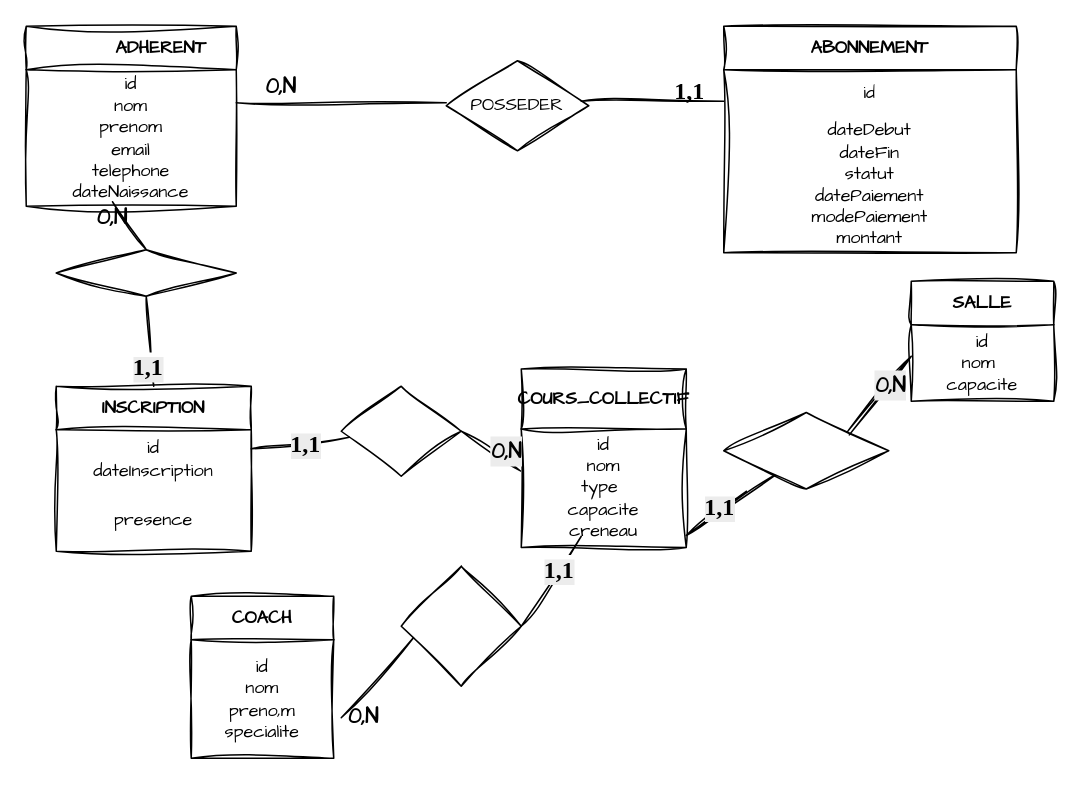
This 1080x785 diagram has some shape labels left out. The centre of each missing label's shape, as x and y in pixels:
"ACCUEILLIIR" belongs at (805,450).
"ANIMER" belongs at (460,625).
"CONCERNER" belongs at (400,430).
"EFFECTUER" belongs at (145,272).
